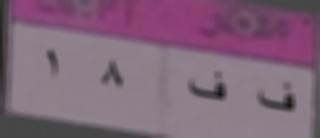1: (40, 44, 63, 86)
8: (97, 55, 125, 92)
faa: (183, 61, 230, 109), (256, 76, 298, 116)
